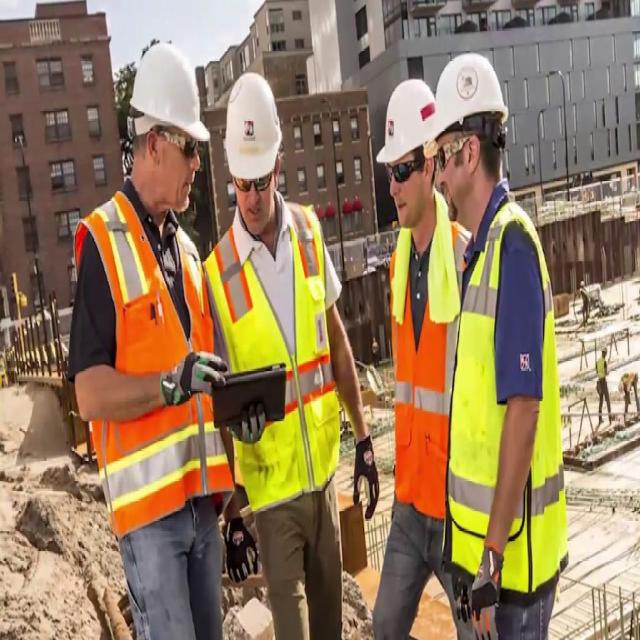Reflective-Jacket: (77, 196, 225, 536), (443, 205, 571, 594), (206, 205, 343, 512), (388, 217, 462, 516)
Safety-Helmet: (126, 37, 211, 149), (221, 64, 287, 184), (434, 44, 511, 140), (374, 72, 439, 170)
